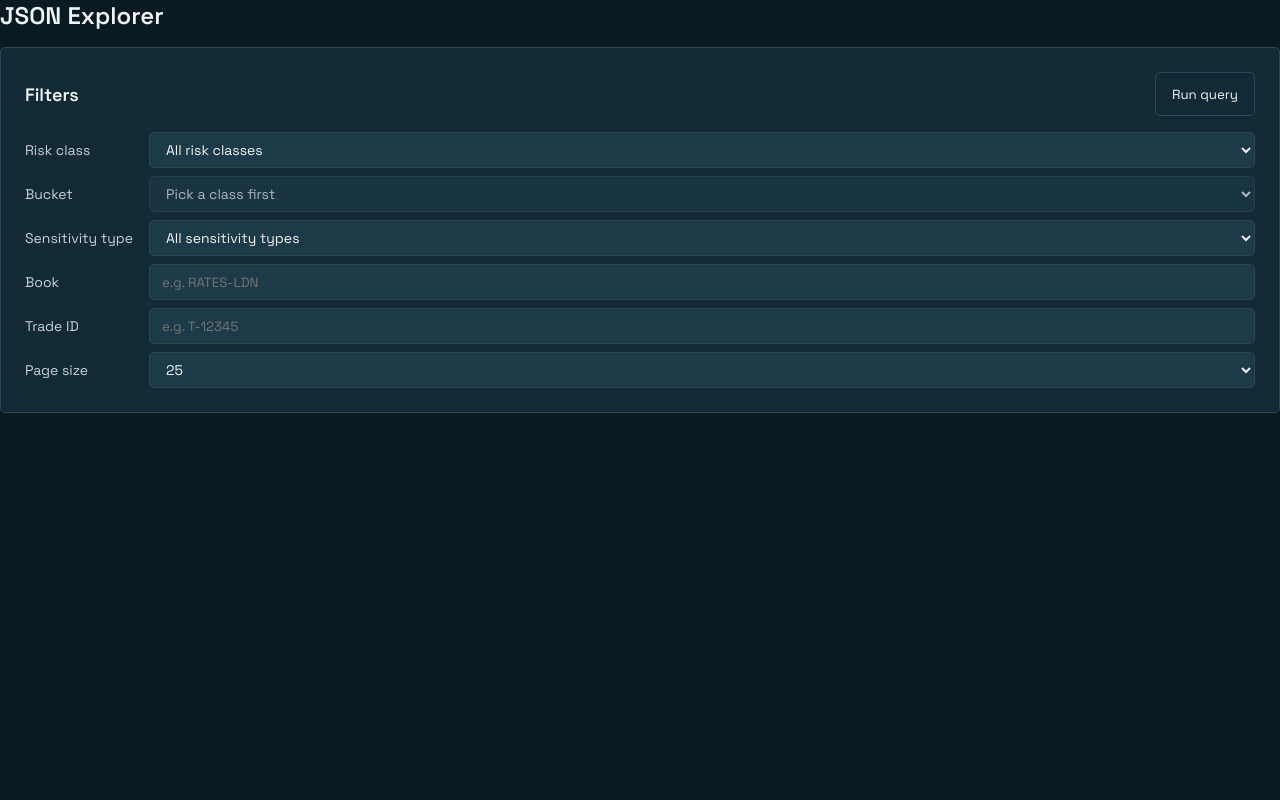
Test: JsonExplorerPanel › renders returned rows in the results table
This screenshot has width=1280, height=800.
What coordinates should you click on to do the following:
click the button "Run query"
I would click on:
 (1205, 94)
Its box is [1155,72,1255,116].
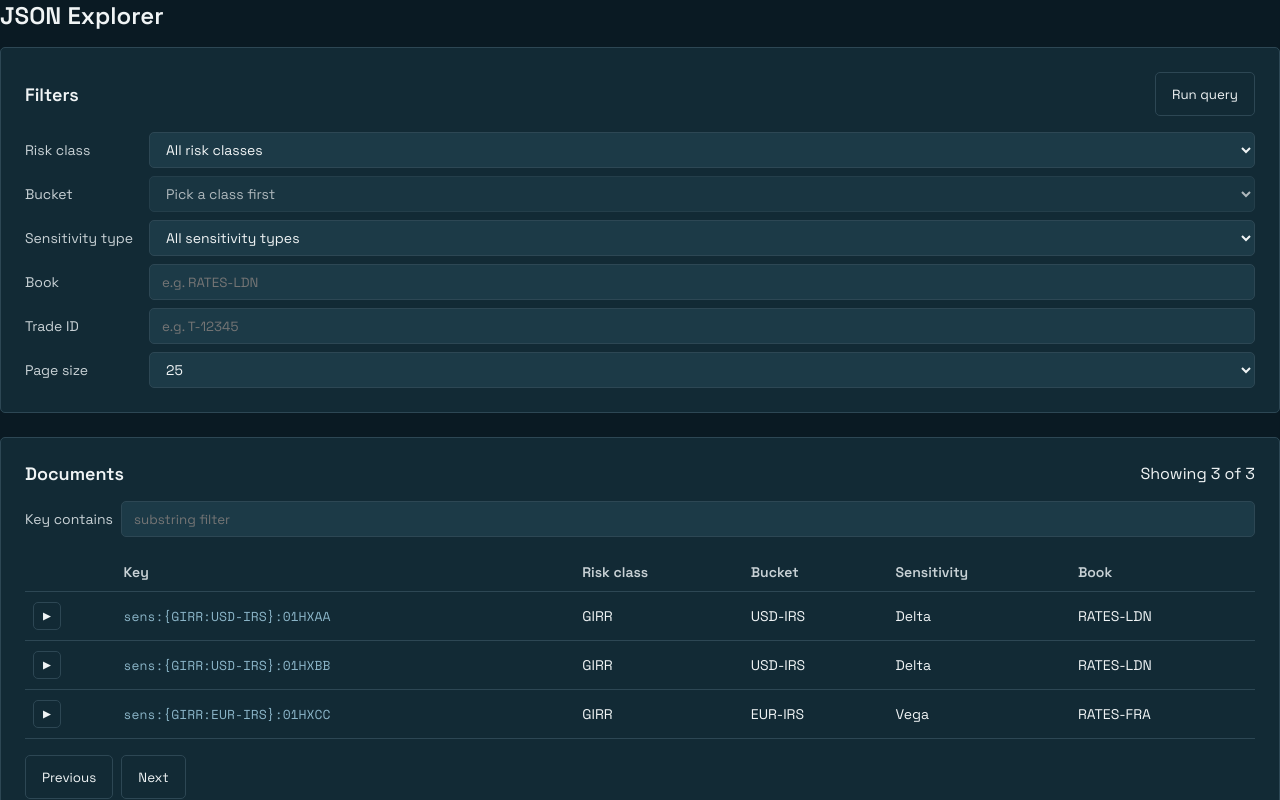
Expected: the number of rows with test id "explorer-row" is 3, [25,592,1255,640]; [25,640,1255,690]; [25,690,1255,738]
